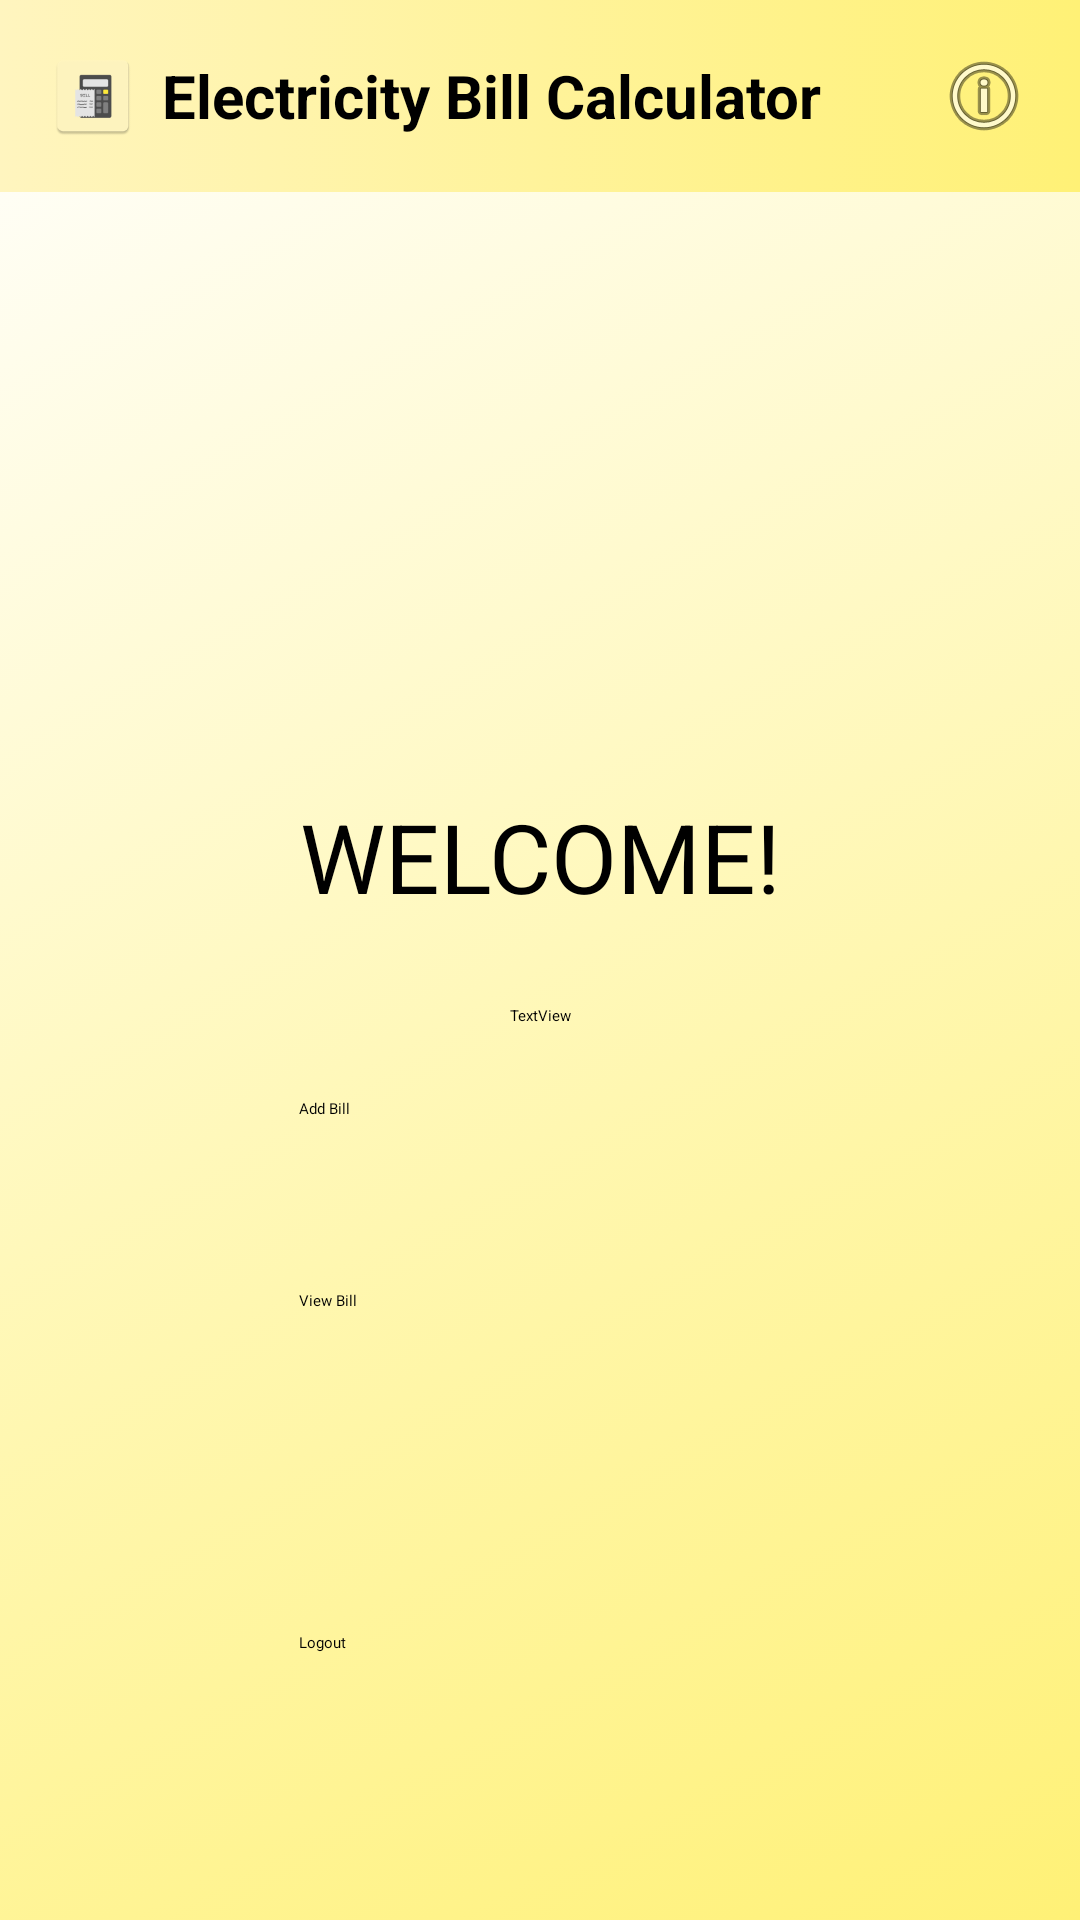

Icons on this 1080px x 1920px Android screen, each with its box as (x1, y1, x2, y2):
Info: (949, 61, 1019, 131)
